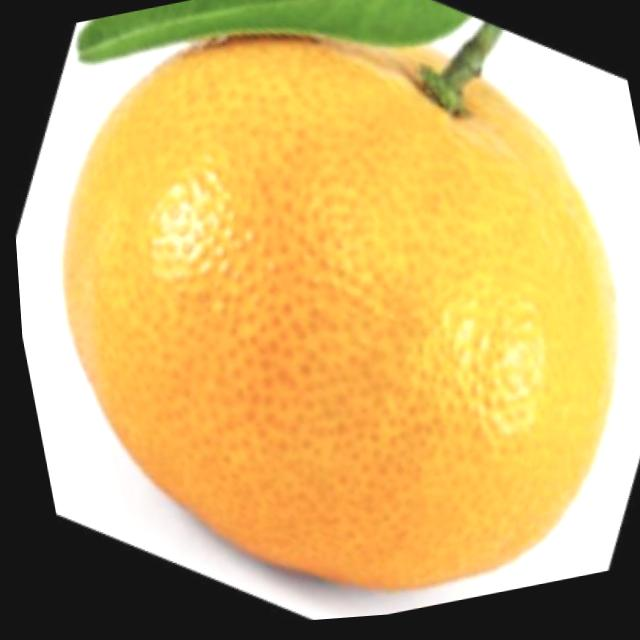Orange: (15, 0, 640, 639)
